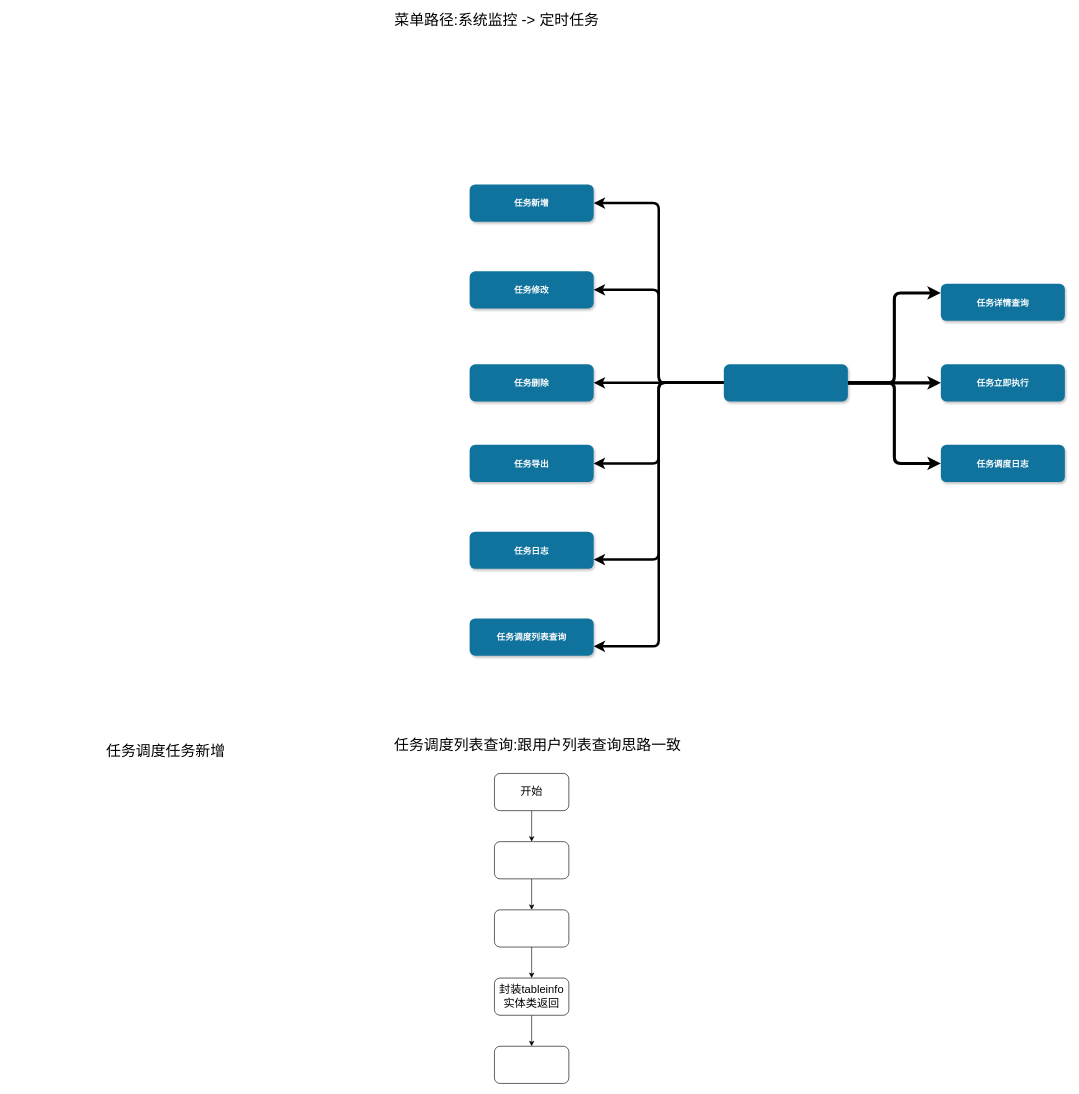
The diagram is 1079 pixels wide and 1094 high, and some of its shapes have lost their labels. The centre of each missing label's shape, as x and y in pixels:
"定时任务" goes at point 786,383.
"封装分页请求参数" goes at point 531,860.
"查询sys_job表" goes at point 531,928.
"结束" goes at point 531,1064.
